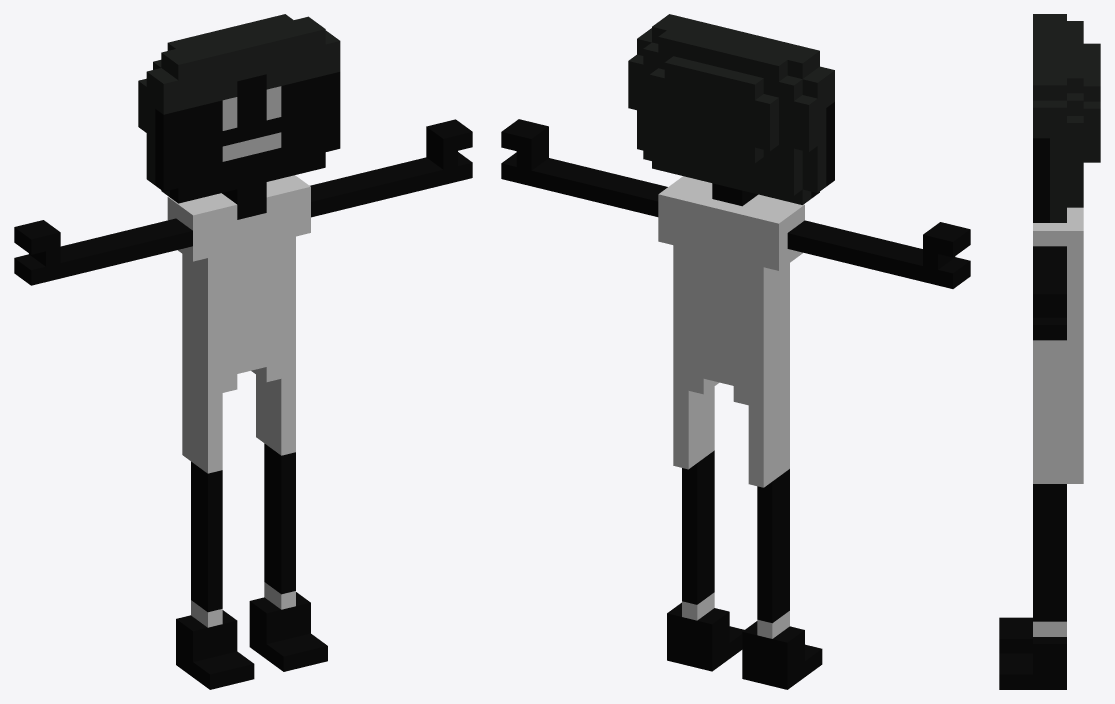
The model's file is classmate1_sp.fbx.
The picture shows the model from 3 angles, left to right: view 1: azimuth 30°, elevation 25°; view 2: azimuth 150°, elevation 25°; view 3: azimuth 270°, elevation 25°; orthographic projection. The views are drawn at different scales.
Parts seen in each view (by area): view 1: 多边形; view 2: 多边形; view 3: 多边形.
Boxes of the visible parts, x1,y1,x2,y2 form: 多边形: (14, 14, 472, 689); 多边形: (501, 14, 970, 689); 多边形: (999, 14, 1100, 689).
Bounding box in the file's own units: 3 × 4 × 0.6.
1 material, 1 textured.
